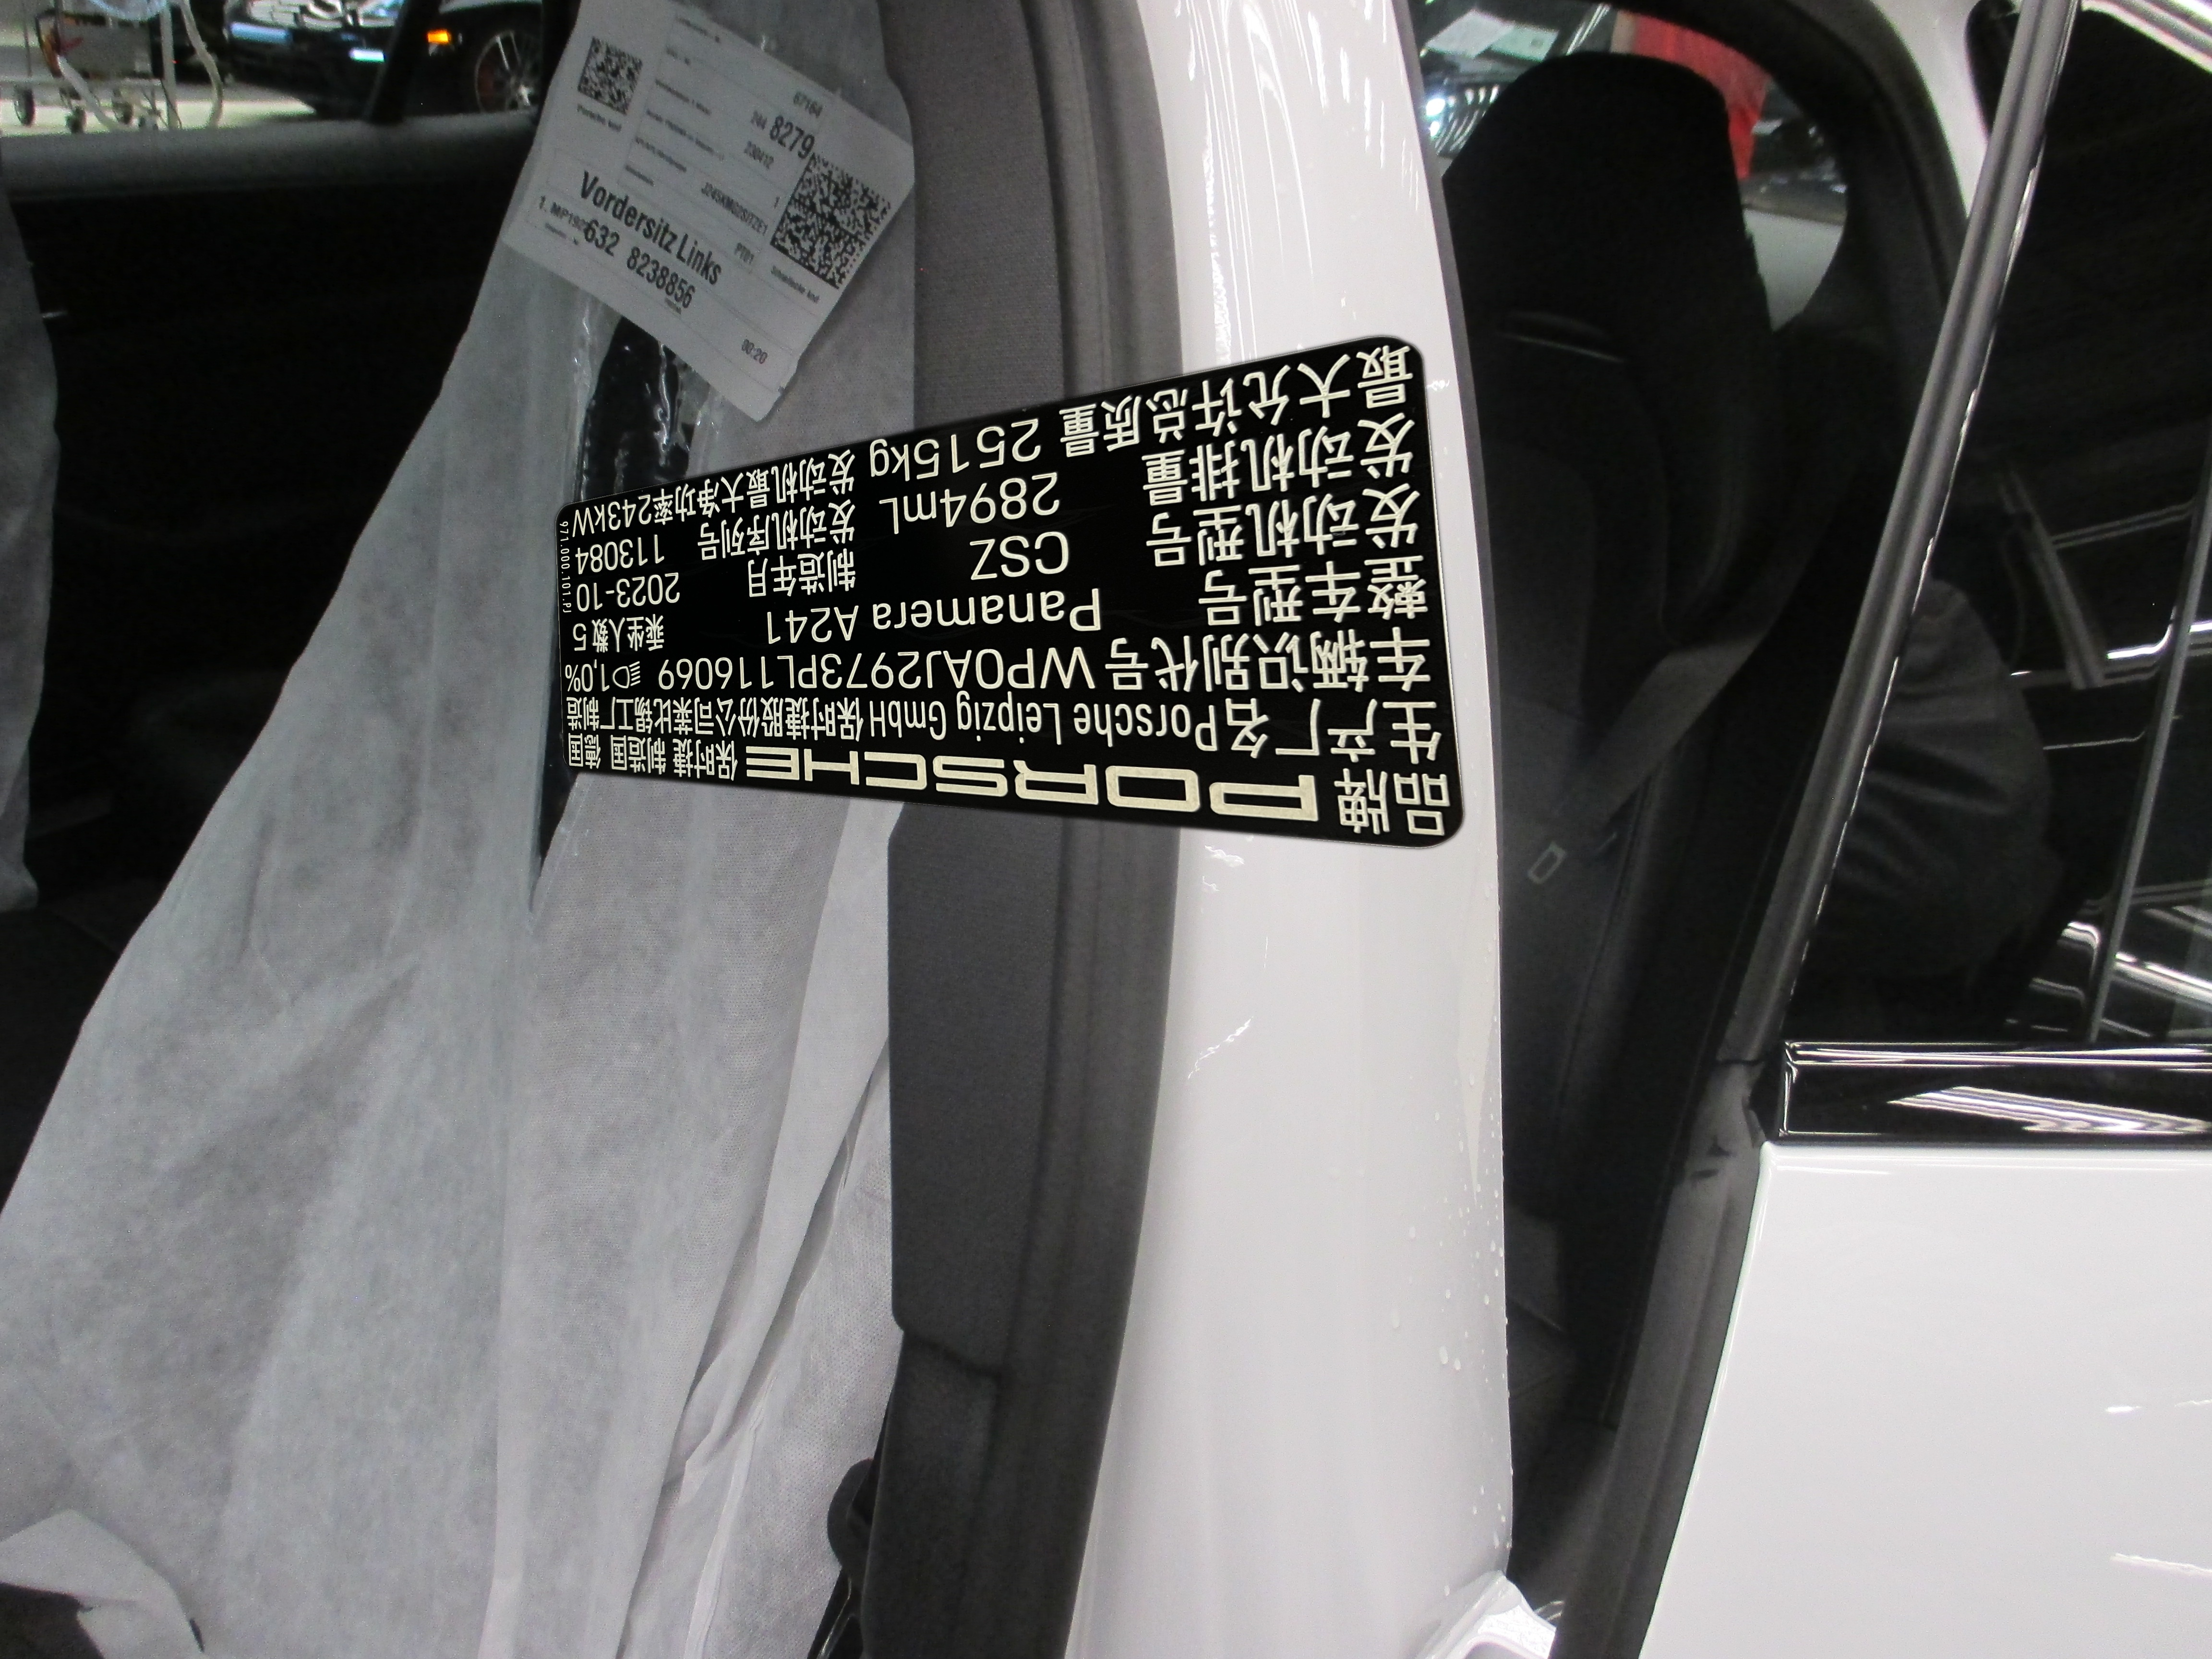Typlabel-China: (556, 336, 1463, 847)
